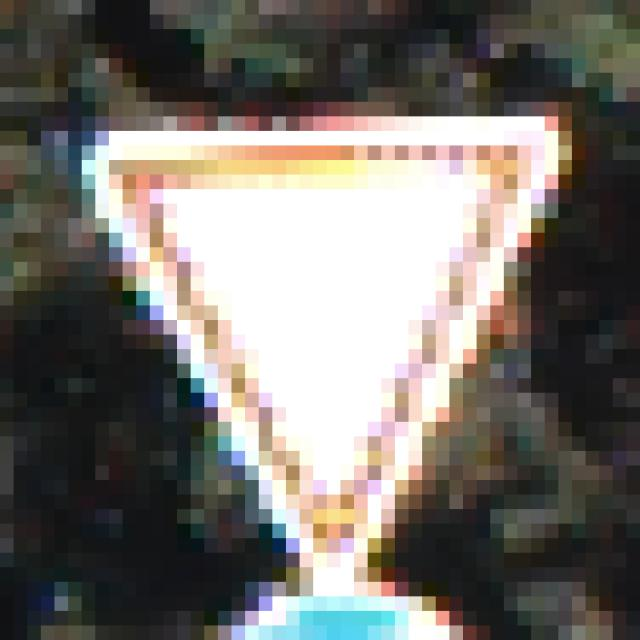Give Way: (69, 89, 573, 569)
